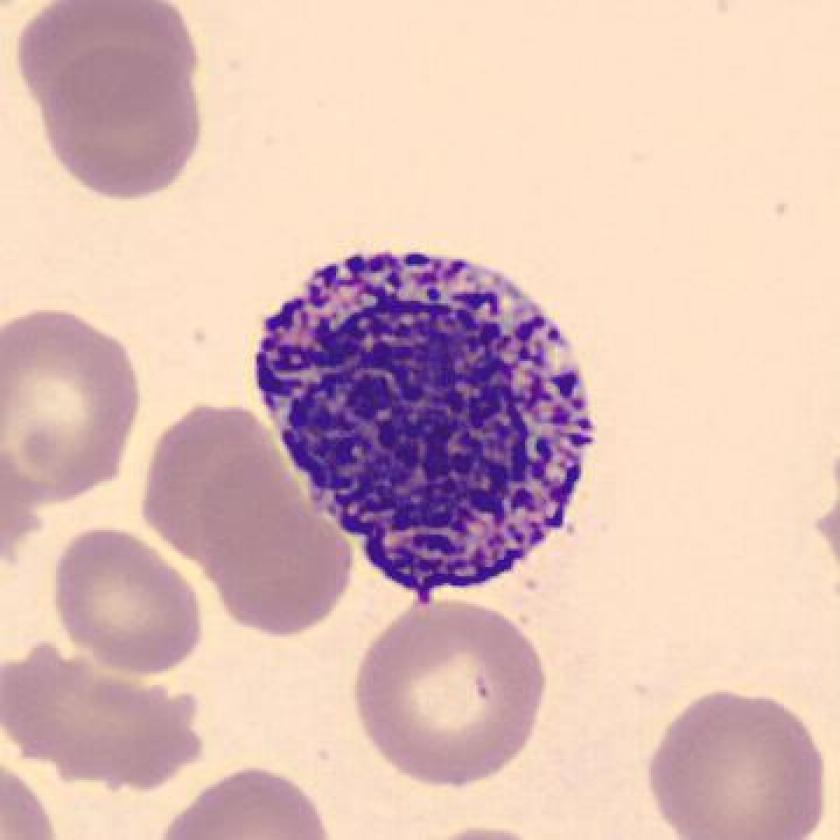basophil: (234, 239, 603, 598)
